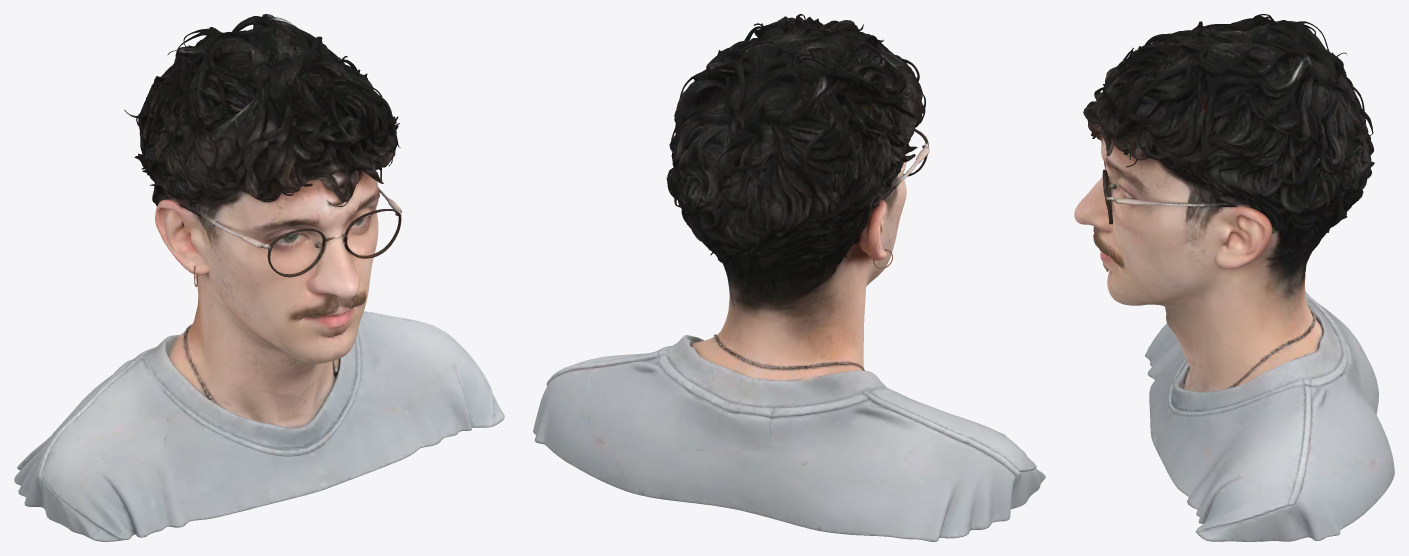
The picture shows the model from 3 angles, left to right: view 1: azimuth 30°, elevation 25°; view 2: azimuth 150°, elevation 25°; view 3: azimuth 270°, elevation 25°; orthographic projection. The views are drawn at different scales.
Parts seen in each view (by area): view 1: model; view 2: model; view 3: model.
Boxes of the visible parts, x1,y1,x2,y2 form: model: (14, 14, 504, 541); model: (533, 14, 1045, 541); model: (1074, 14, 1394, 541).
Size of the model in its own units: 62004 by 55162 by 39340.
Materials: 1 (1 with a texture image).
